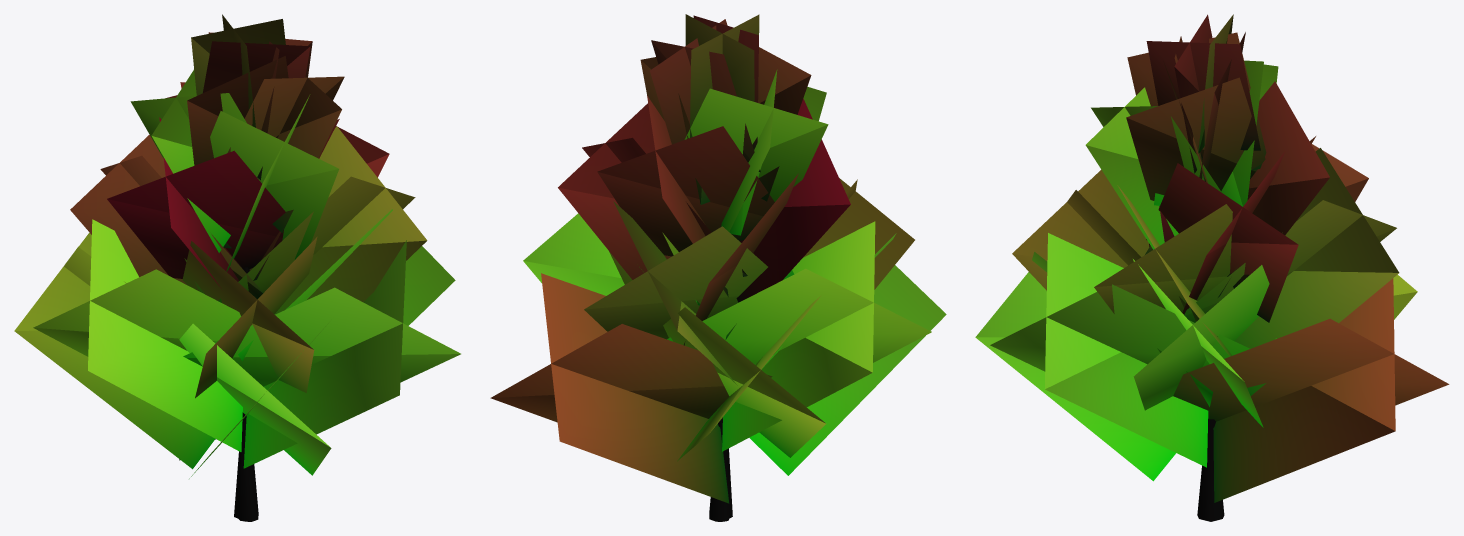
The model's file is Tree_2_3.fbx.
3 renders of one model, left to right at view 1: azimuth 30°, elevation 25°; view 2: azimuth 150°, elevation 25°; view 3: azimuth 270°, elevation 25°, orthographic.
Visible parts, largest first — view 1: Tree_2_3; view 2: Tree_2_3; view 3: Tree_2_3.
Boxes of the visible parts, x1,y1,x2,y2 form: Tree_2_3: [14, 14, 460, 521]; Tree_2_3: [490, 14, 946, 521]; Tree_2_3: [975, 14, 1449, 521].
Bounding box in the file's own units: 4066 × 5225 × 4596.
